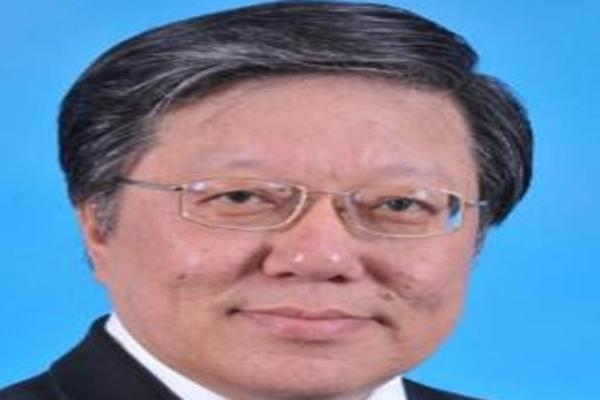Chinese: (146, 112, 475, 384)
